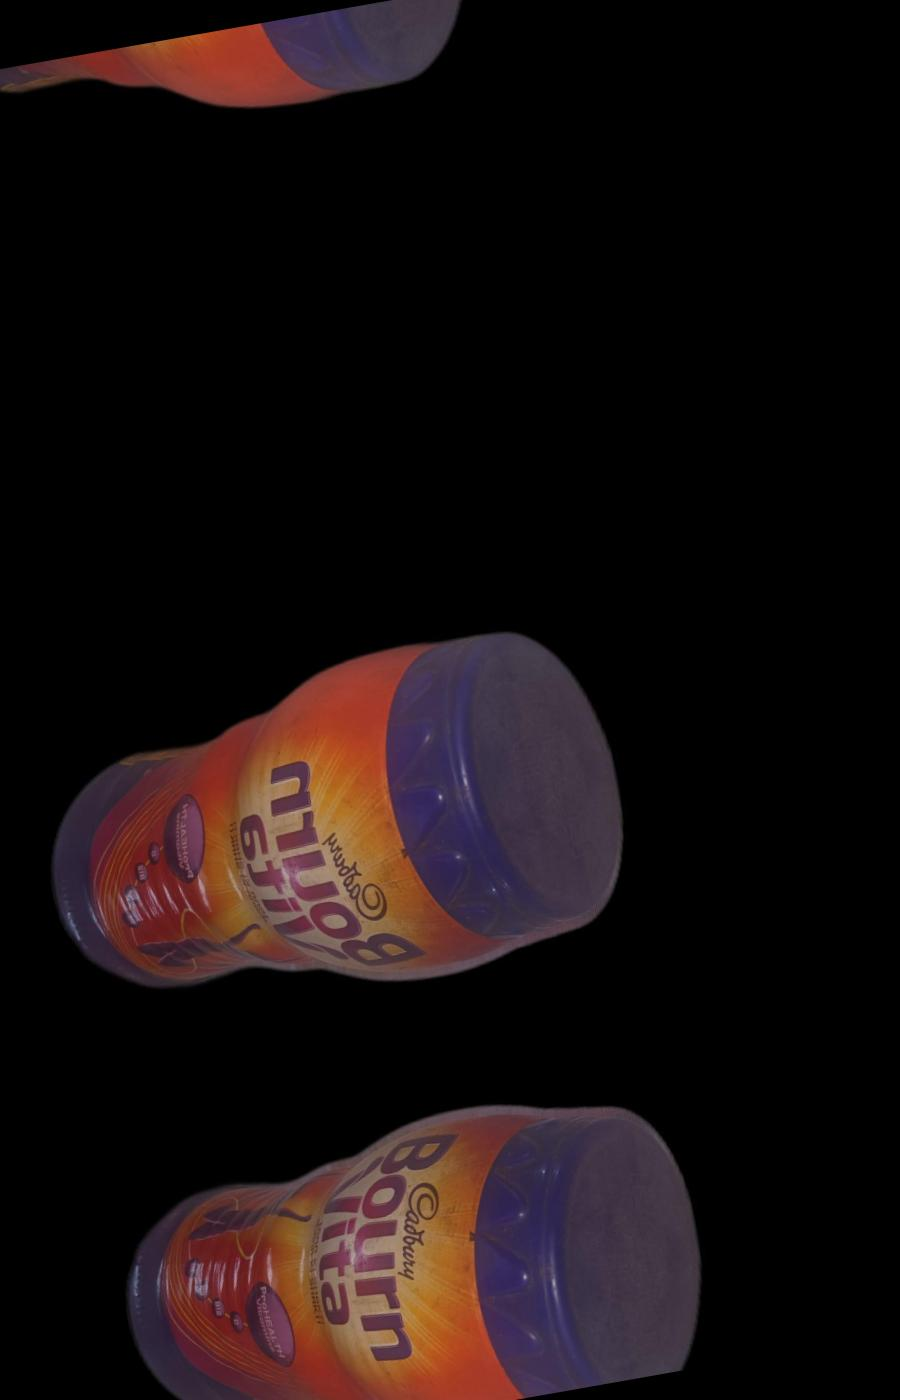Cadbury Bournvita Chocolate Health Drink-1kg-: (23, 604, 647, 1044), (105, 1068, 720, 1400), (0, 0, 494, 179)
